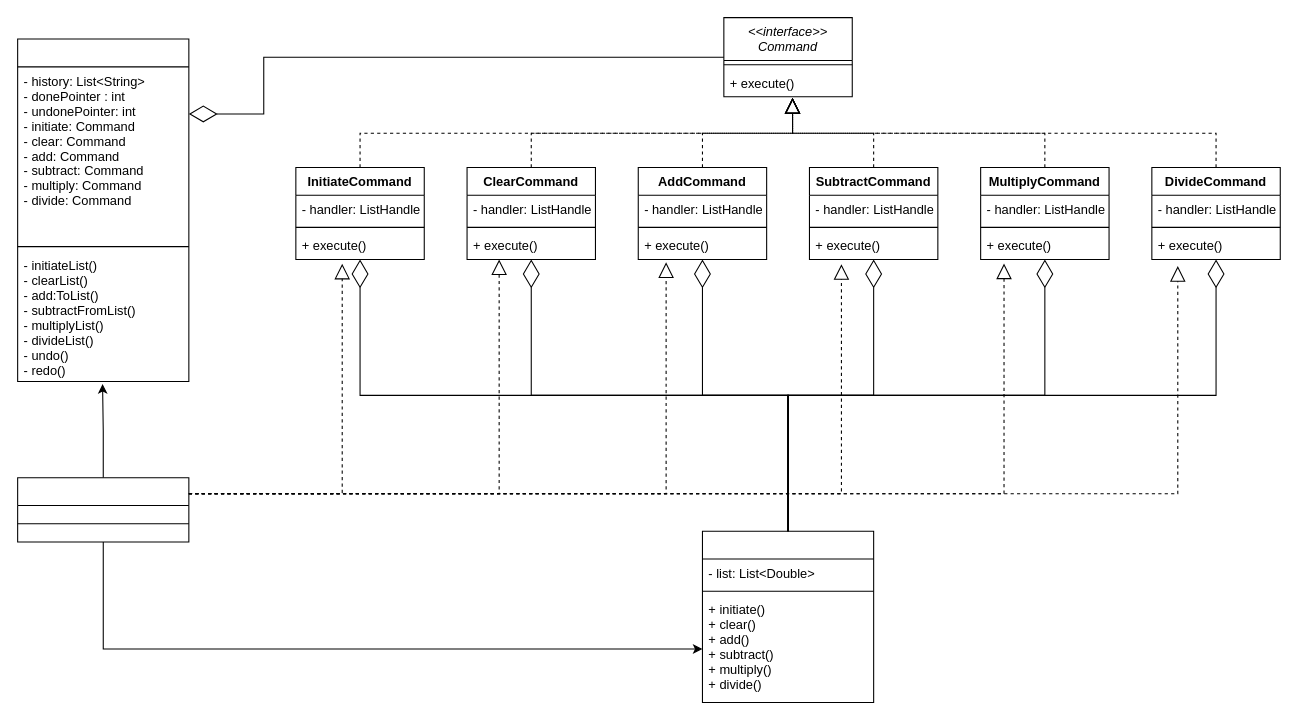
Some shapes in this 1298 by 720 pixel diagram are drawn without their labels. The box of each missing label's shape, as (x1, y1, x2, y2) in pixels:
Command_Main: (17, 477, 189, 542)
CommandsController: (17, 38, 189, 381)
ListHandler: (701, 530, 874, 702)
